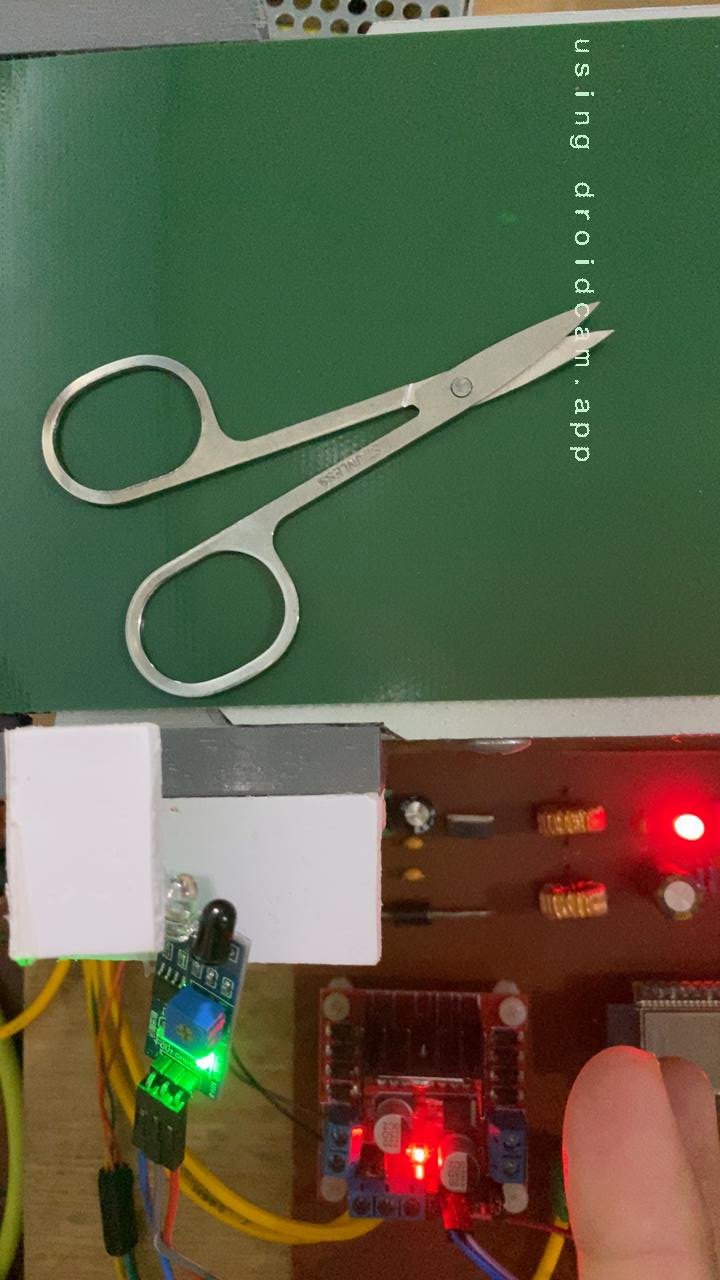scissor: (35, 297, 618, 703)
